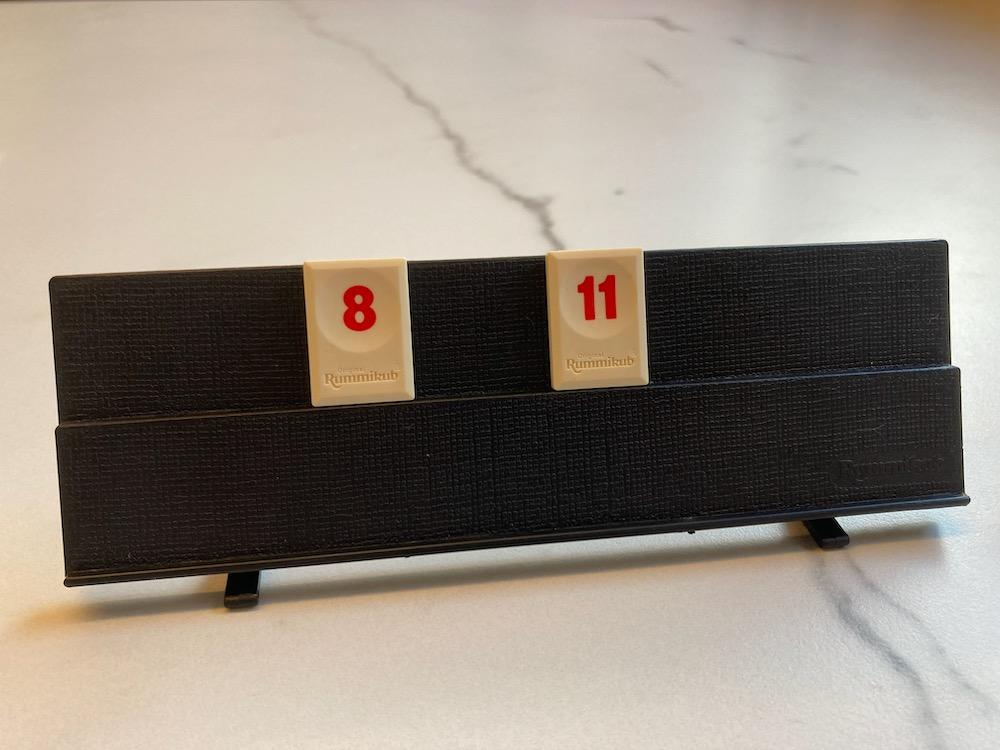red_11: (545, 248, 647, 391)
red_8: (303, 258, 414, 405)
